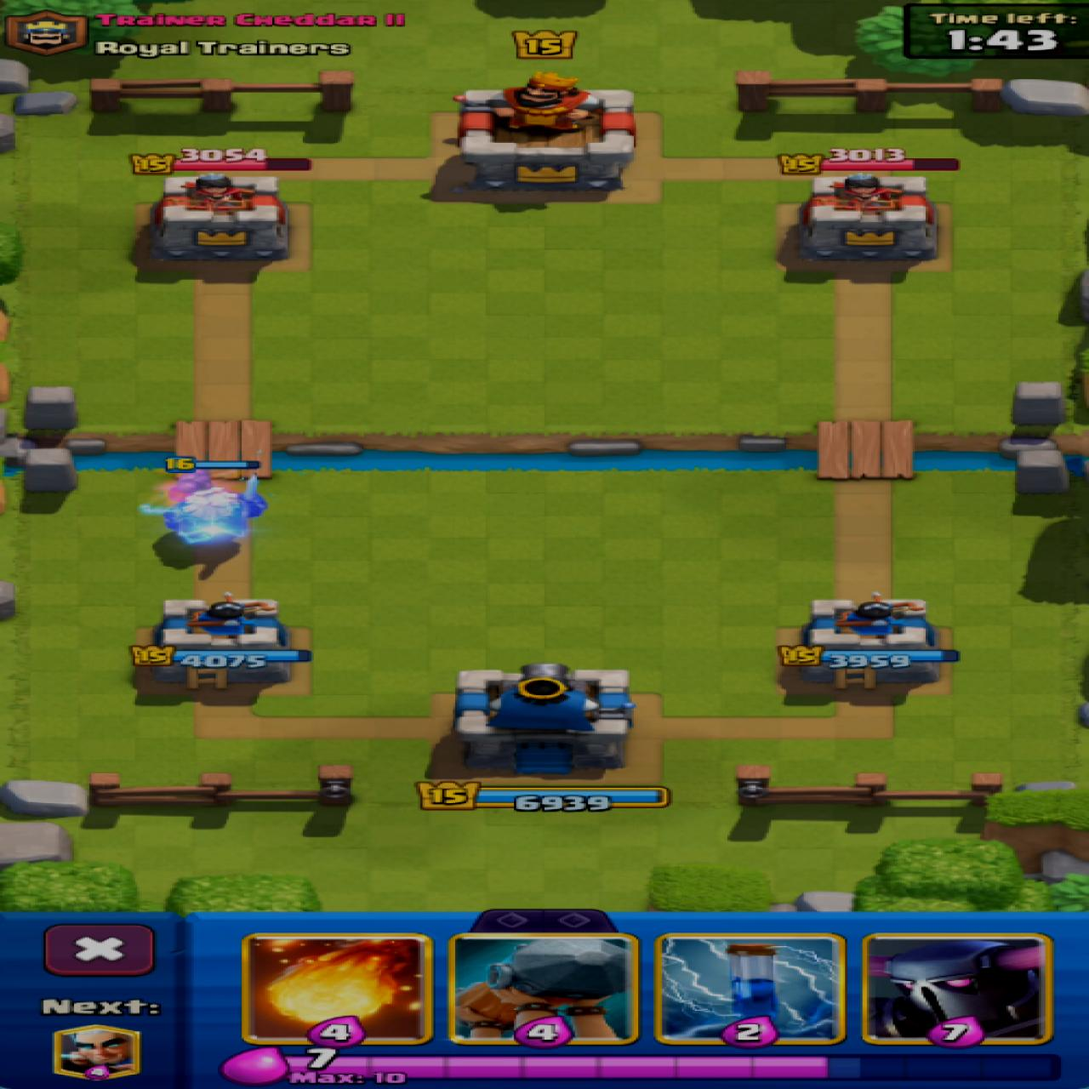Enemy-KingTower: (457, 73, 634, 194)
Enemy-PrincessTower: (799, 174, 937, 261), (150, 173, 287, 260)
